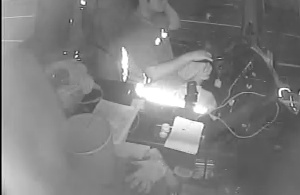paper: (163, 114, 206, 156)
